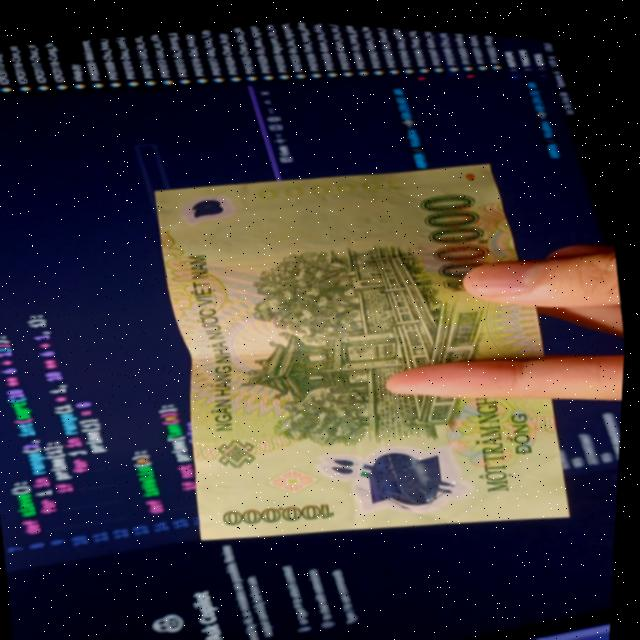100 000 VND: (136, 124, 593, 570)
